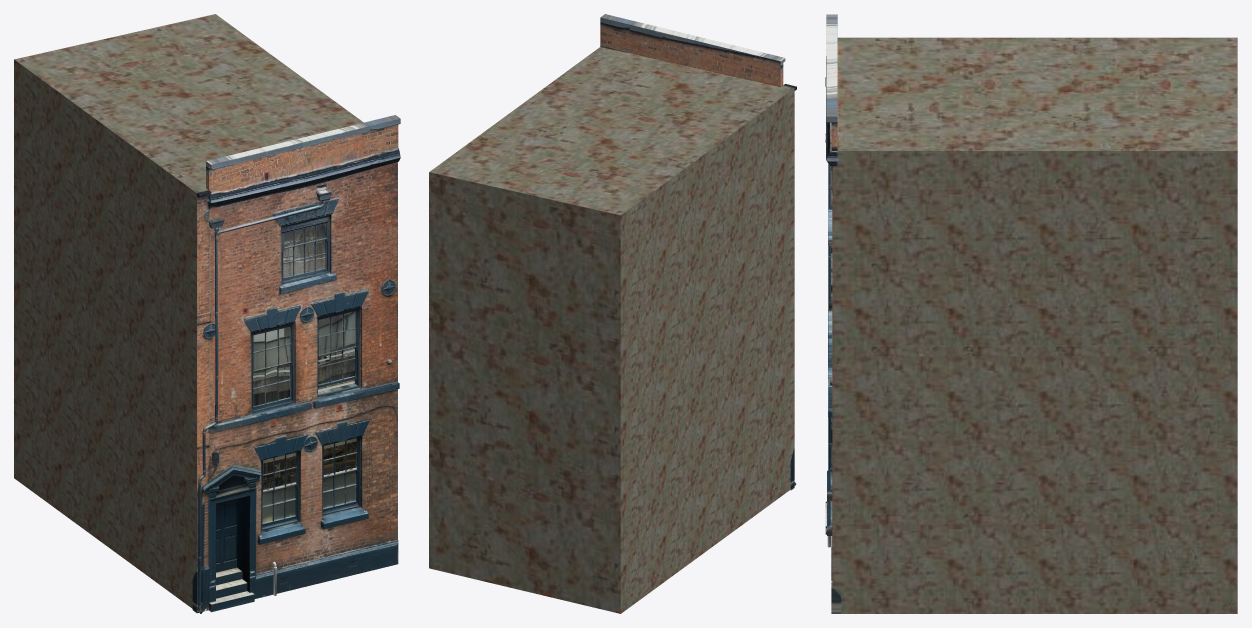
The model's file is london_georgian.gltf.
3 views of the same model, side by side, from view 1: azimuth 30°, elevation 25°; view 2: azimuth 150°, elevation 25°; view 3: azimuth 270°, elevation 25° (orthographic). The views are drawn at different scales.
Parts seen in each view (by area): view 1: Object_2; view 2: Object_2; view 3: Object_2.
Boxes of the visible parts, x1,y1,x2,y2 form: Object_2: [14, 14, 400, 613]; Object_2: [429, 14, 796, 613]; Object_2: [825, 14, 1237, 613].
Bounding box in the file's own units: 6.36 × 13.5 × 10.15.
Materials: 3 (3 with a texture image).
